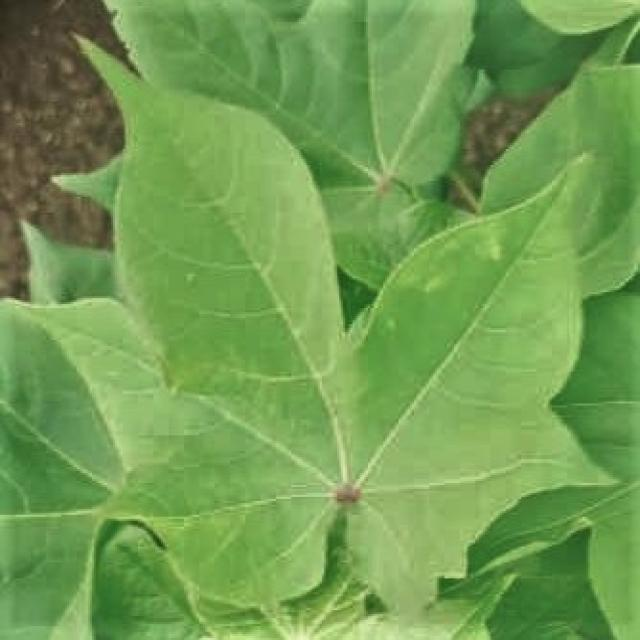Healthy Leaf: (17, 12, 640, 638)
